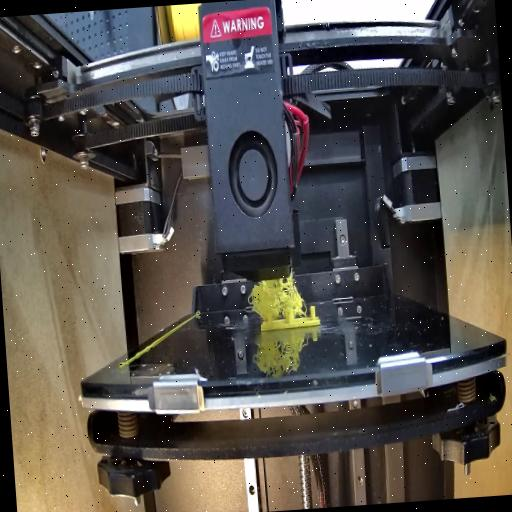spaghetti: (244, 269, 308, 320)
